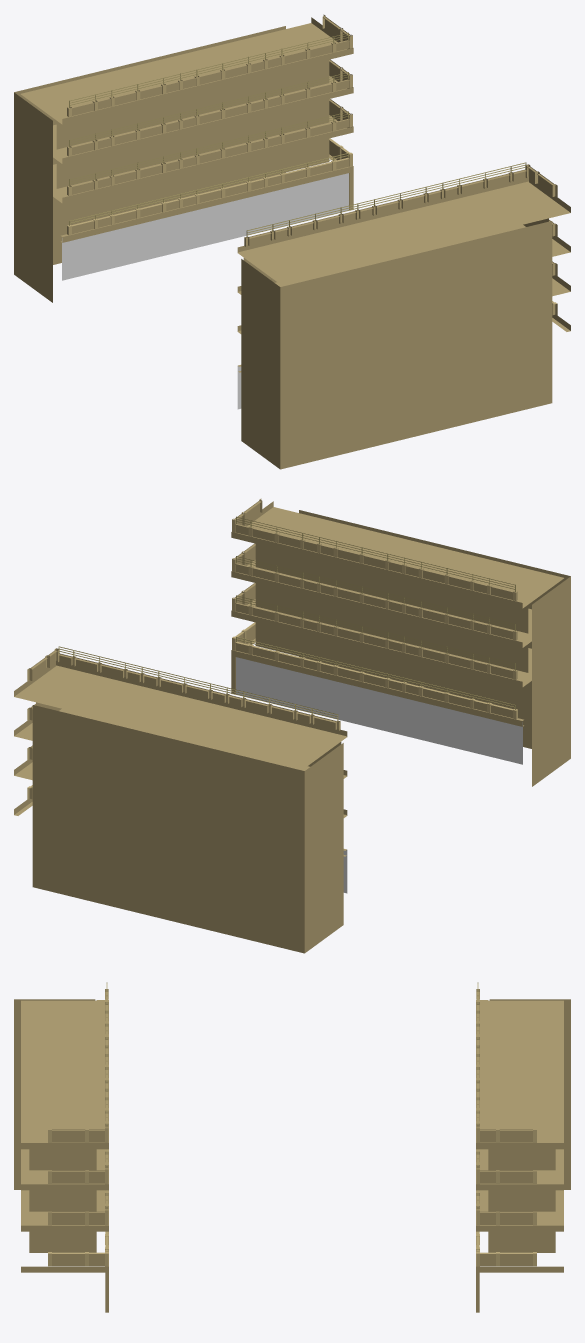
The model's file is Lapangan_SideBuildings.fbx.
3 renders of one model, top to bottom at view 1: azimuth 30°, elevation 25°; view 2: azimuth 150°, elevation 25°; view 3: azimuth 270°, elevation 25°, orthographic. The views are drawn at different scales.
Visible parts, largest first — view 1: PagarBalkon, PagarBalkon.001, B-Wall.001; view 2: PagarBalkon.001, PagarBalkon, B-Wall; view 3: PagarBalkon, PagarBalkon.001.
Part boxes in pixels (x1,y1,x2,y2): PagarBalkon: (237,162,570,469); PagarBalkon.001: (14,14,353,302); B-Wall.001: (62,173,348,280); PagarBalkon.001: (14,646,347,953); PagarBalkon: (231,498,570,786); B-Wall: (236,657,522,764); PagarBalkon: (14,982,108,1312); PagarBalkon.001: (476,982,570,1312).
Bounding box in the file's own units: 42.18 × 27.93 × 66.16.
